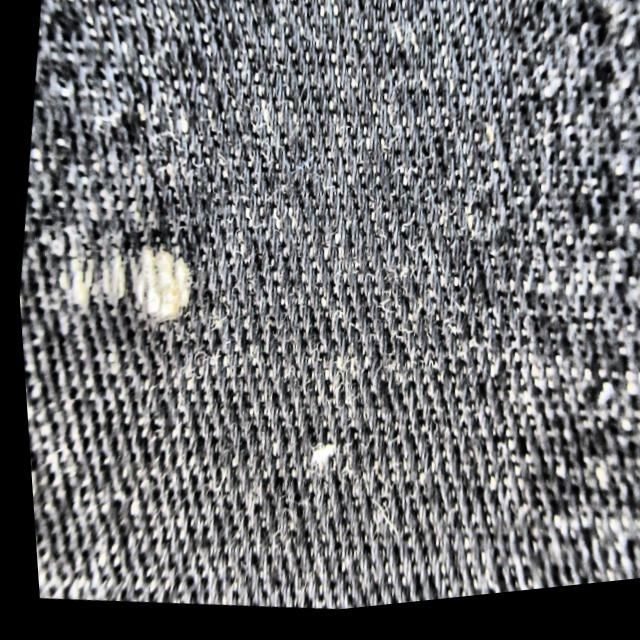Hole: (62, 240, 194, 323)
